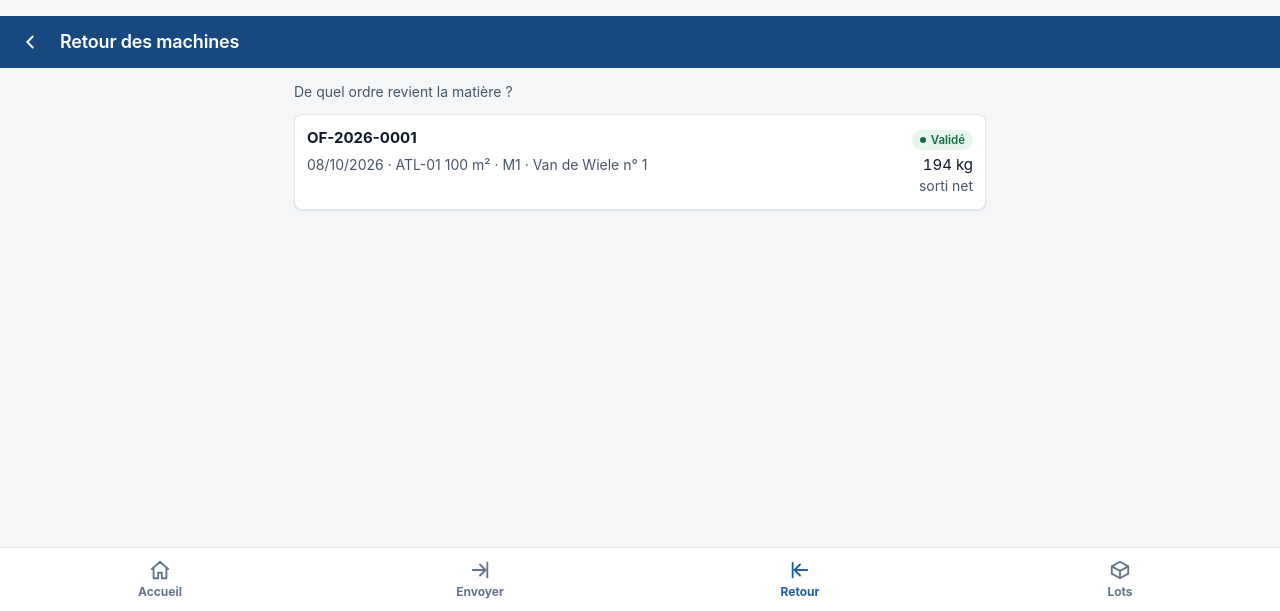
Test: Retour des machines › le choix de l’ordre : les validés ; toucher une carte ouvre le retour
(page scrolled)
Expected: the text "De quel ordre revient la matière ?" is shown, x1=294 y1=83 x2=513 y2=100
Click the link "OF-2026-0001".
click(640, 162)  # box x1=294 y1=114 x2=986 y2=210
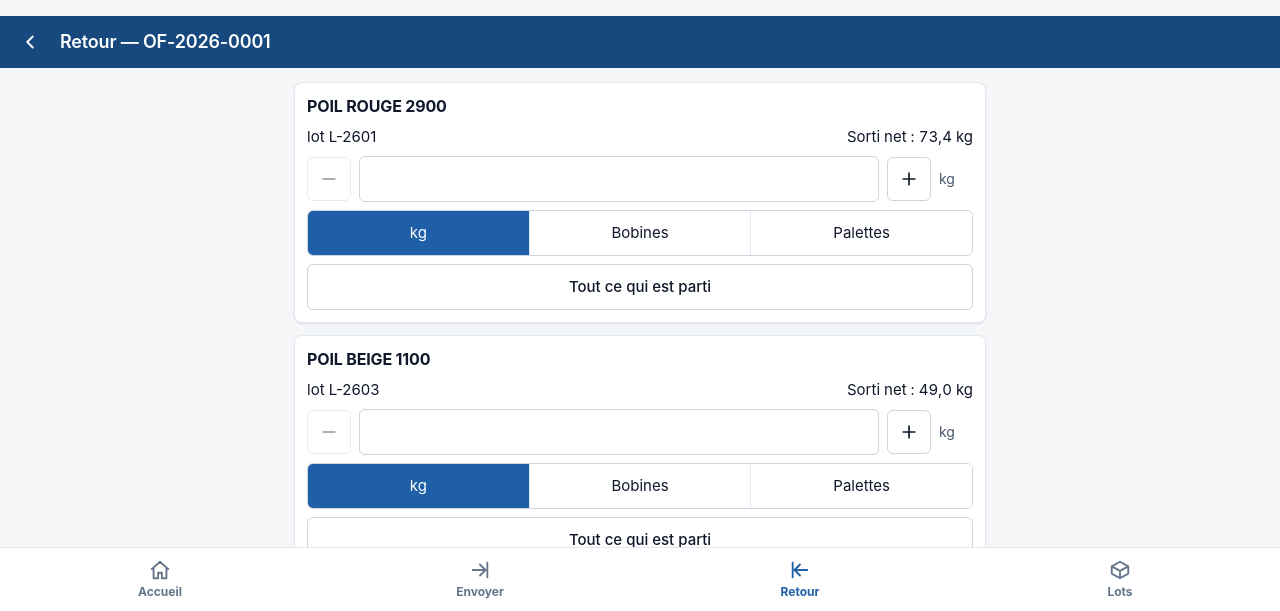
Expected: the heading "Retour — OF-2026-0001" is shown, x1=60 y1=29 x2=270 y2=55
